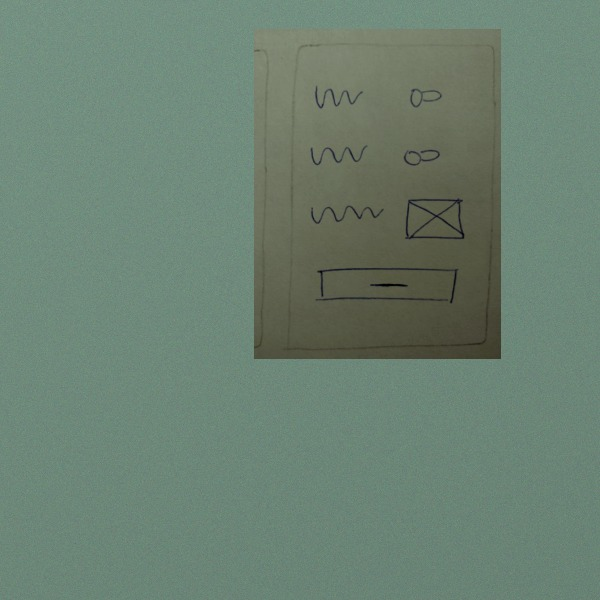button: (309, 264, 463, 308)
image: (400, 194, 470, 244)
switch: (398, 139, 446, 169), (404, 81, 447, 112)
text: (305, 199, 388, 230), (309, 79, 367, 112), (303, 140, 372, 167)
